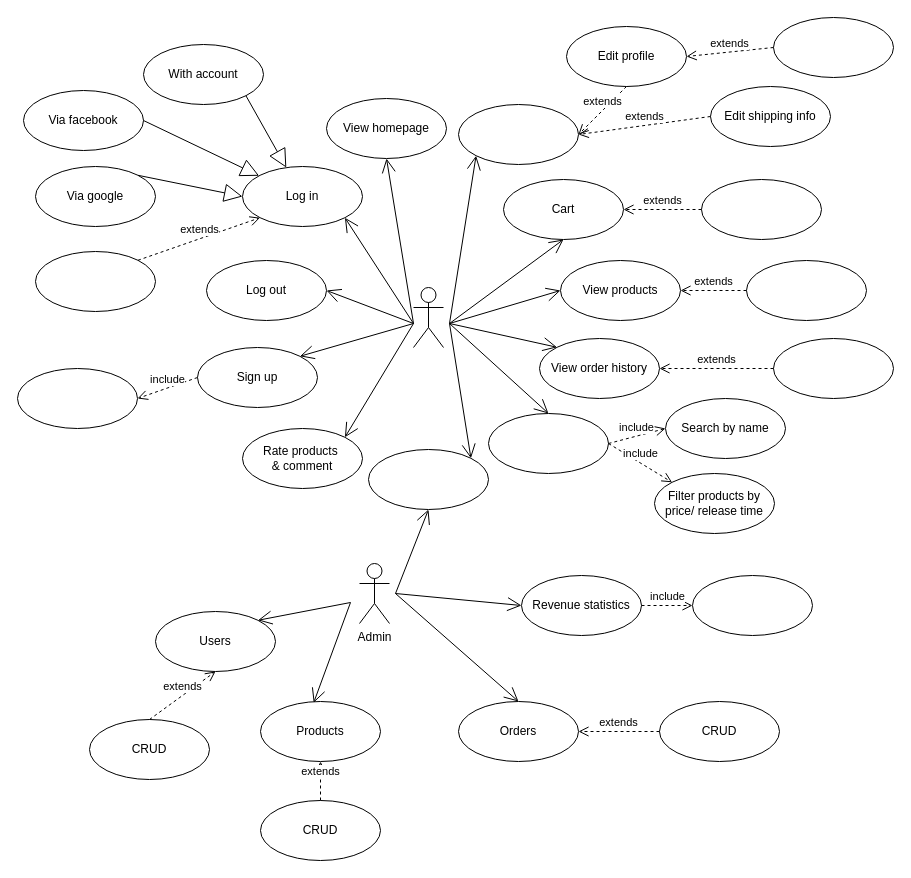
Image size: 911x878. Some labels were removed from this diagram. The shapes that lost their labels are listed below. From the top down, each one's box as (x1, y1, x2, y2) in pixels, then its label:
(772, 16, 894, 78): Change password
(458, 104, 578, 164): View profile
(700, 178, 822, 240): Order & payment
(34, 250, 156, 312): Forgot password
(746, 260, 866, 320): View products detail
(412, 286, 444, 348): User
(772, 338, 894, 398): View order status
(16, 368, 138, 428): Email confirmation
(488, 412, 608, 474): Search products
(368, 448, 488, 510): Chat
(692, 574, 812, 636): By product/ category/ supplier...
